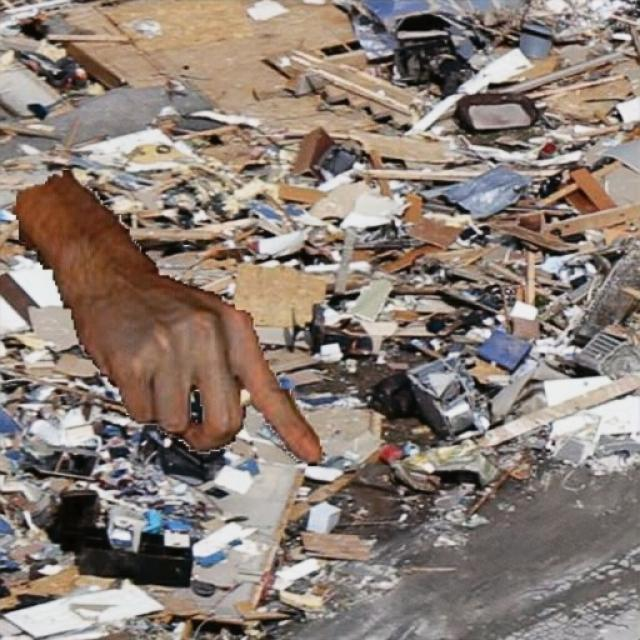Person in Rubble: (12, 170, 324, 465)
